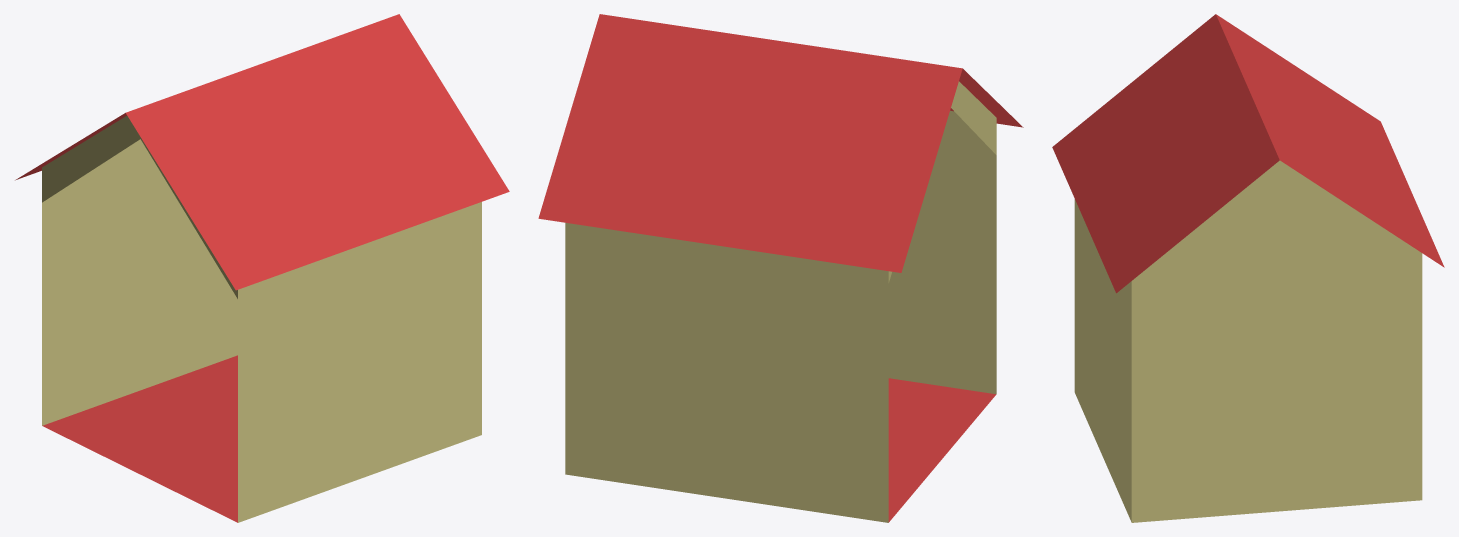
3 views of the same model, side by side, from view 1: azimuth 30°, elevation 25°; view 2: azimuth 150°, elevation 25°; view 3: azimuth 270°, elevation 25° (orthographic). The views are drawn at different scales.
Size of the model in its own units: 10.51 by 10.14 by 10.24.
